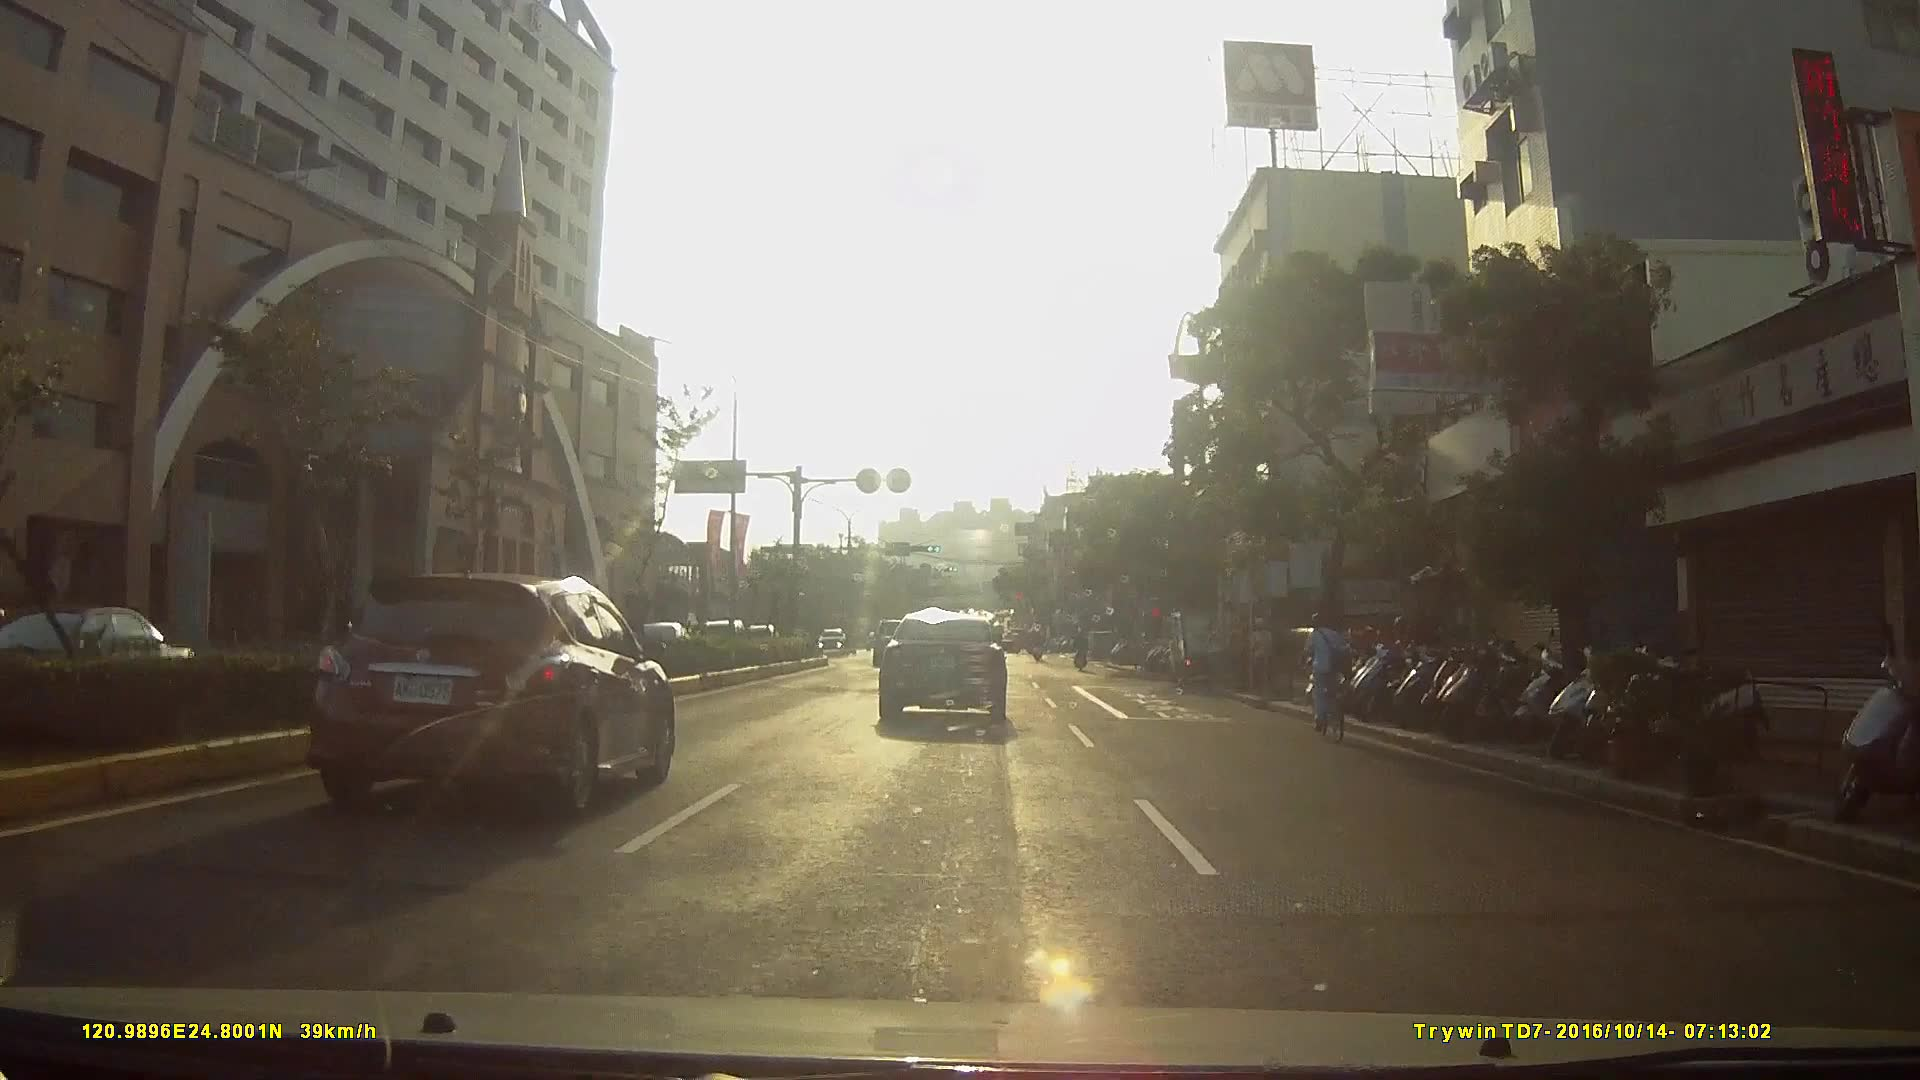pedestrian: (1245, 615, 1277, 699)
rider: (1297, 612, 1358, 743)
vehicle: (301, 566, 688, 819), (872, 609, 1019, 739), (1167, 602, 1248, 687), (763, 607, 822, 662), (806, 620, 855, 659)
